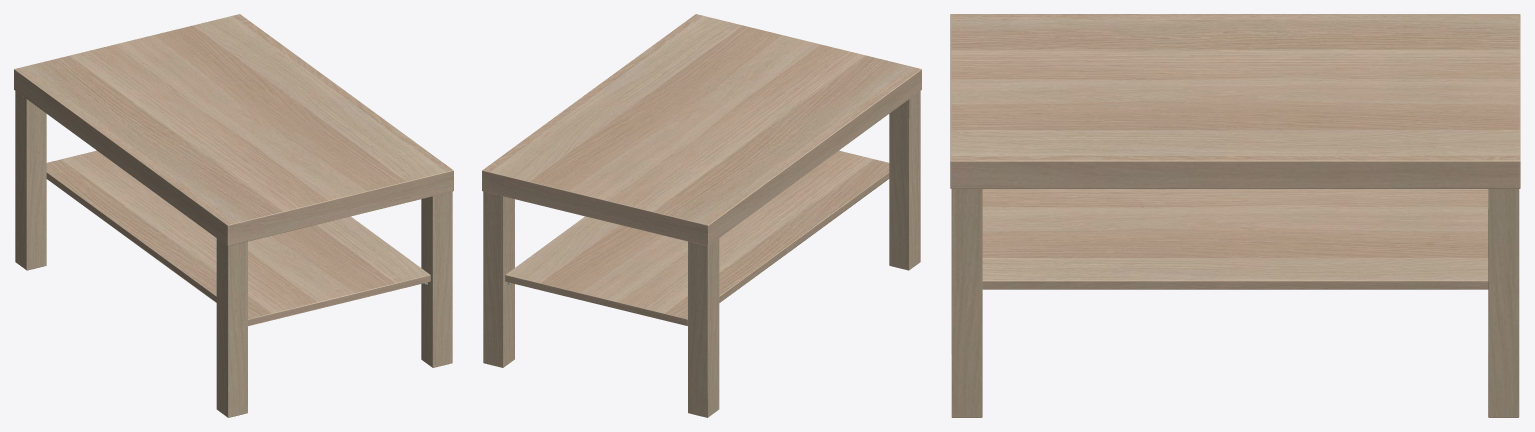
File: lack_basse.glb
The picture shows the model from 3 angles, left to right: view 1: azimuth 30°, elevation 25°; view 2: azimuth 150°, elevation 25°; view 3: azimuth 270°, elevation 25°; orthographic projection. The views are drawn at different scales.
Visible parts, largest first — view 1: model; view 2: model; view 3: model.
Boxes of the visible parts, x1,y1,x2,y2 form: model: (14, 14, 453, 417); model: (482, 14, 921, 417); model: (950, 14, 1520, 417).
Size of the model in its own units: 0.55 by 0.449 by 0.9.
1 material, 1 textured.
